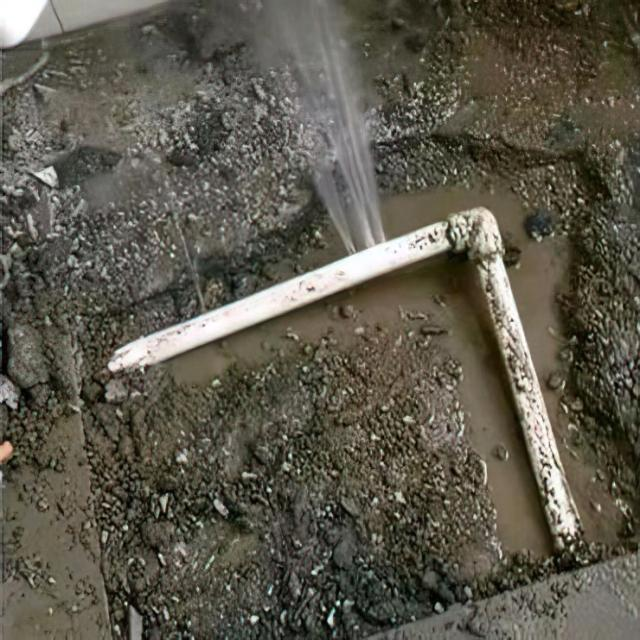leak: (236, 0, 392, 259)
